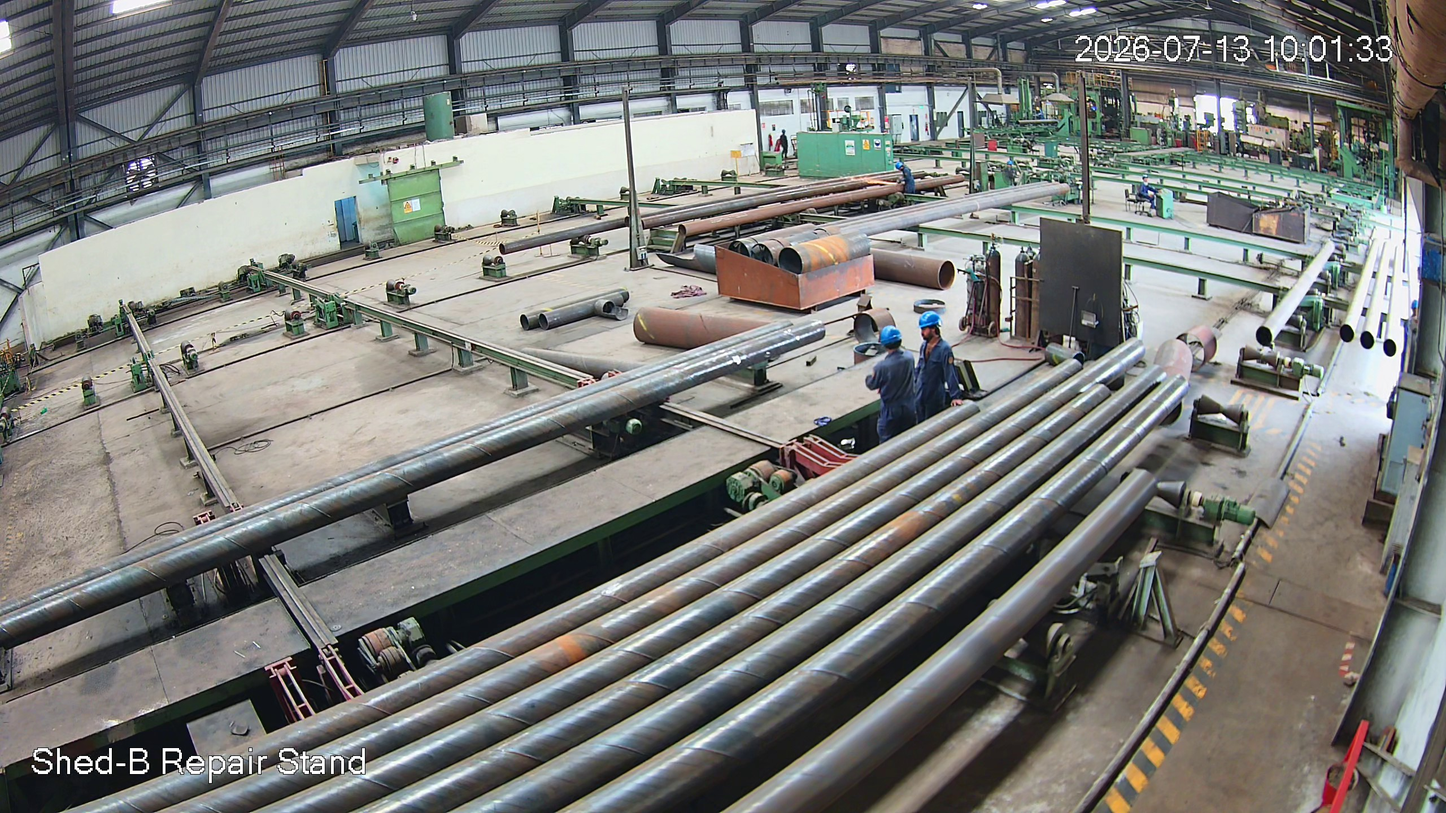Helmet: (915, 311, 952, 350), (874, 324, 906, 361)
Person: (866, 327, 919, 435), (911, 314, 964, 414)
